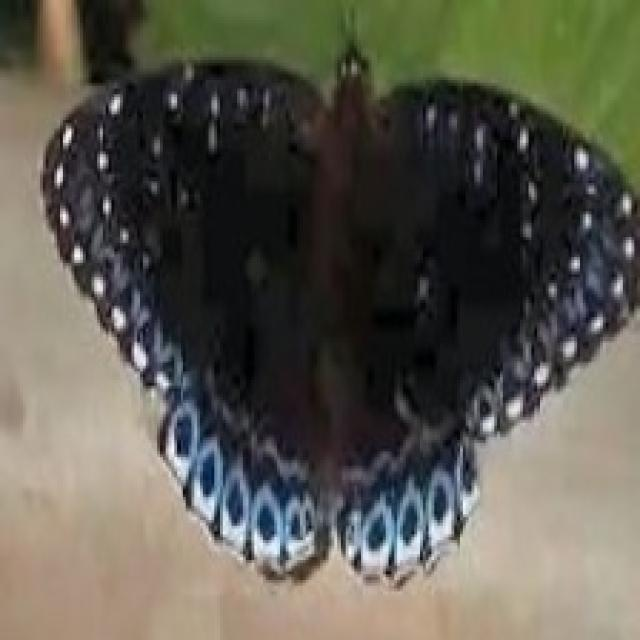butterfly: (34, 0, 637, 591)
